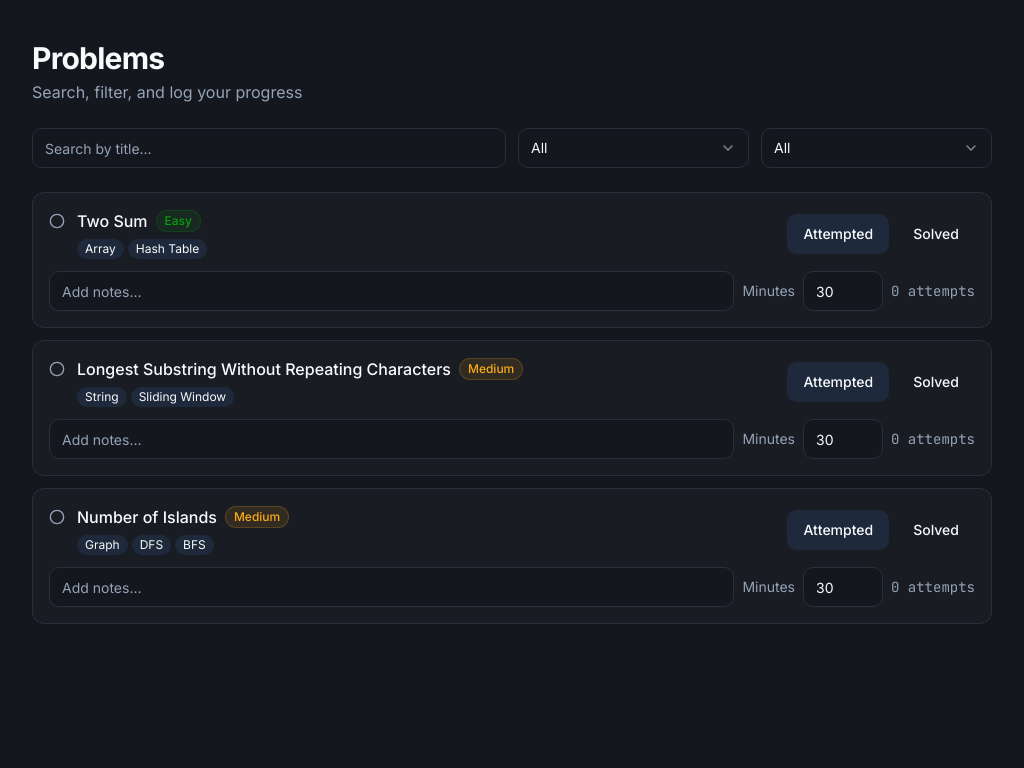
Test: Problems page: catalog and filtering › filters by topic, offering every topic in the catalog
The image size is (1024, 768).
Click the 2nd dropdown labelled "All" at (876, 148), box [761,128,992,168]
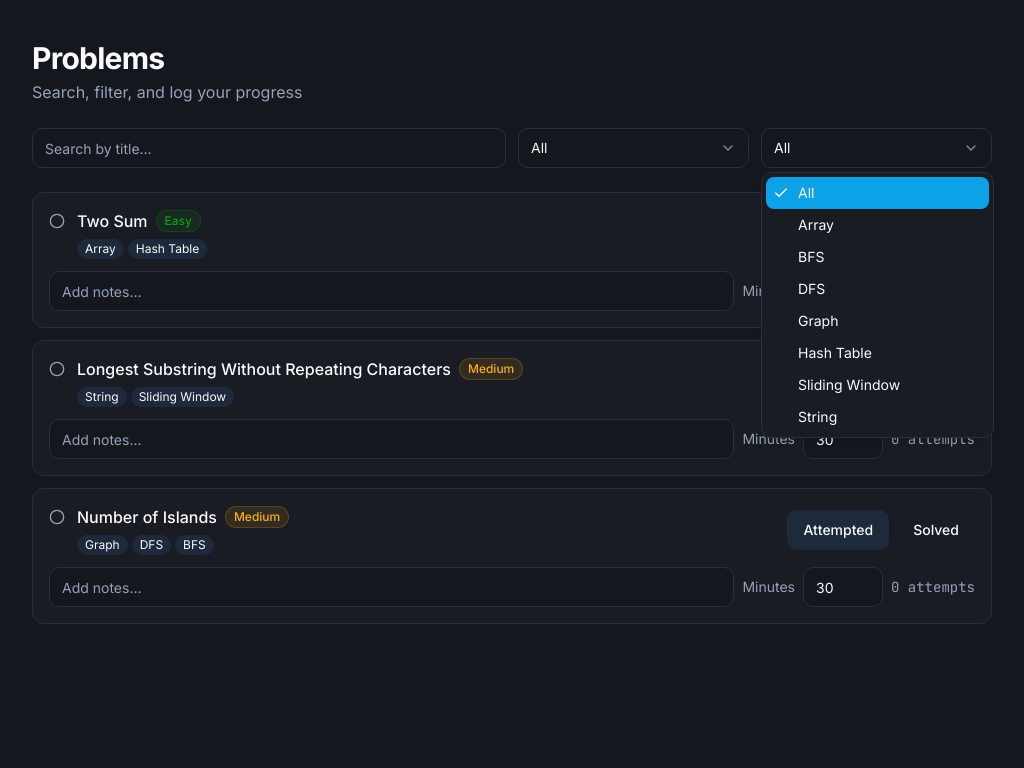
Expected: the option "Sliding Window" is shown, [798,376,900,393]
Click the option "Graph" at (818, 320), box [798,312,838,329]
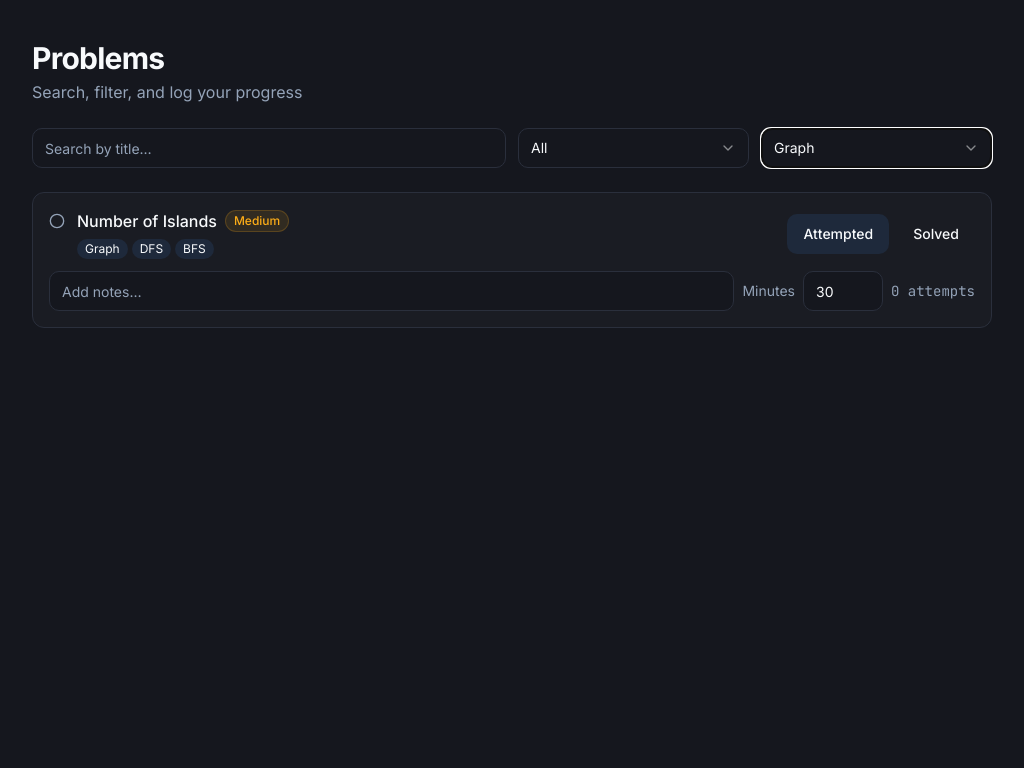
Expected: the link "Number of Islands" is shown, [77,209,217,233]
Expected: the link "Two Sum" is gone
